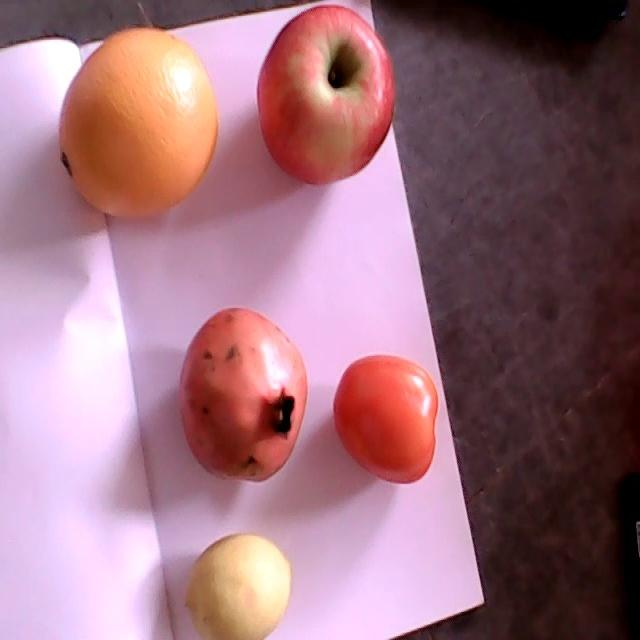apple: (255, 4, 395, 188)
lemon: (186, 533, 291, 639)
orange: (60, 28, 218, 220)
pomegranate: (179, 308, 307, 483)
tomato: (334, 354, 439, 485)
